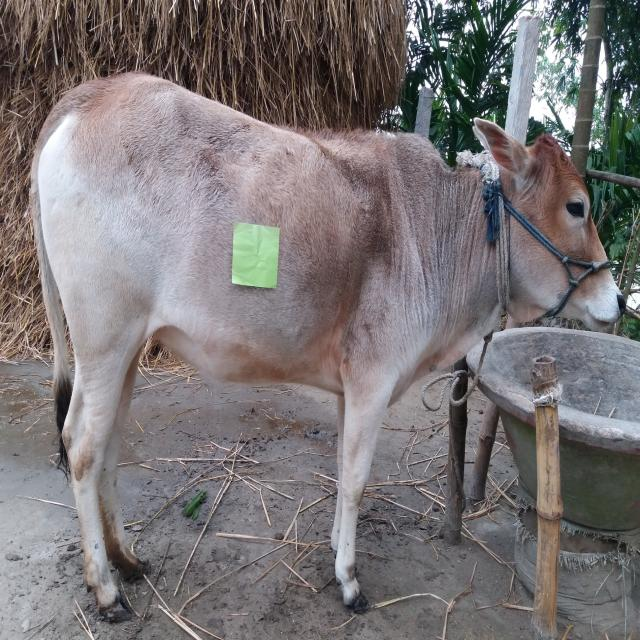badan_sapi: (43, 120, 399, 404)
sapi: (31, 65, 632, 628)
